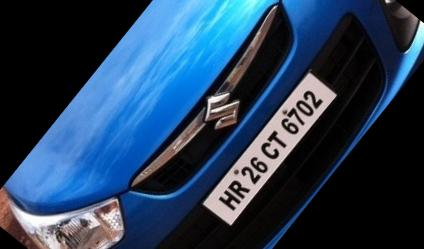plate: (186, 52, 357, 240)
